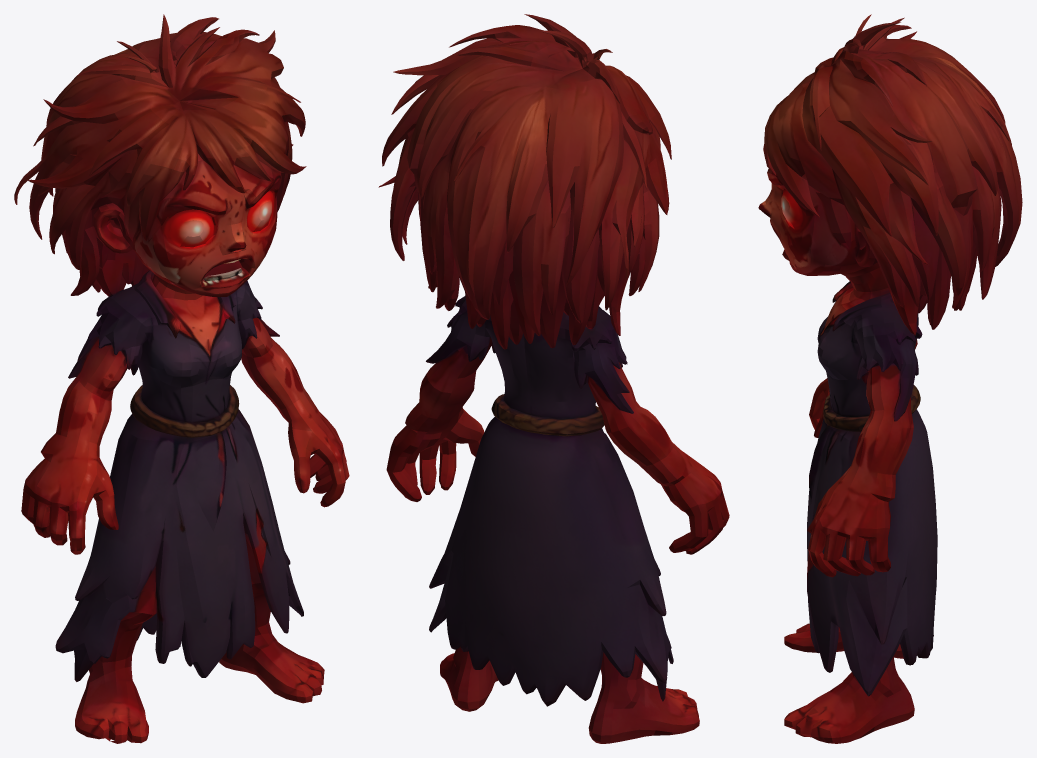
Rendered from base_basic_pbr.fbx.
3 views of the same model, side by side, from view 1: azimuth 30°, elevation 25°; view 2: azimuth 150°, elevation 25°; view 3: azimuth 270°, elevation 25° (orthographic). The views are drawn at different scales.
Parts seen in each view (by area): view 1: model; view 2: model; view 3: model.
Part boxes in pixels (<box>): model: <box>14,14,349,743</box>; model: <box>378,14,729,743</box>; model: <box>758,14,1022,743</box>.
Size of the model in its own units: 92.04 by 190 by 68.35.
Materials: 1 (1 with a texture image).
